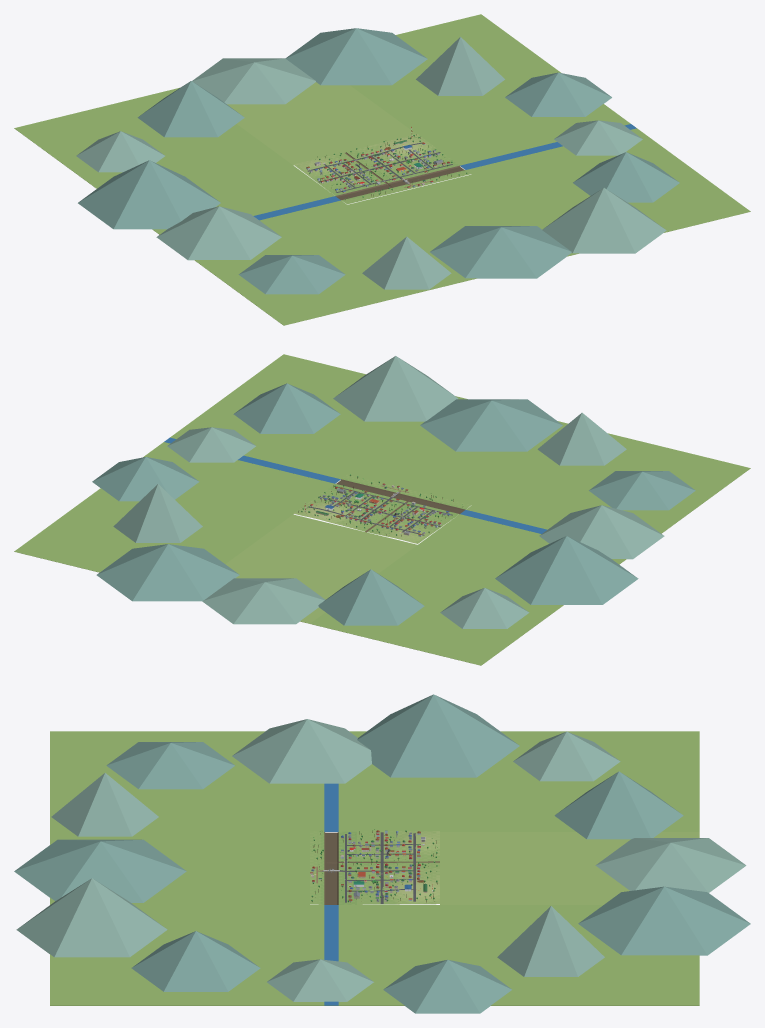
The model's file is town.fbx.
3 renders of one model, top to bottom at view 1: azimuth 30°, elevation 25°; view 2: azimuth 150°, elevation 25°; view 3: azimuth 270°, elevation 25°, orthographic. The views are drawn at different scales.
Parts seen in each view (by area): view 1: M__far, M__terrain, M__buildings, M__roads; view 2: M__far, M__terrain, M__buildings, M__roads; view 3: M__far, M__terrain, M__buildings, M__roads.
Part boxes in pixels (x1,y1,x2,y2): M__far: (14,14,750,325); M__terrain: (293,134,470,204); M__buildings: (306,140,450,192); M__roads: (307,142,452,192); M__far: (14,354,750,665); M__terrain: (293,474,471,543); M__buildings: (310,483,450,536); M__roads: (307,485,452,535); M__far: (14,694,750,1013); M__terrain: (310,831,439,904); M__buildings: (310,830,427,902); M__roads: (316,832,420,903).
Size of the model in its own units: 1962 by 162 by 2042.
